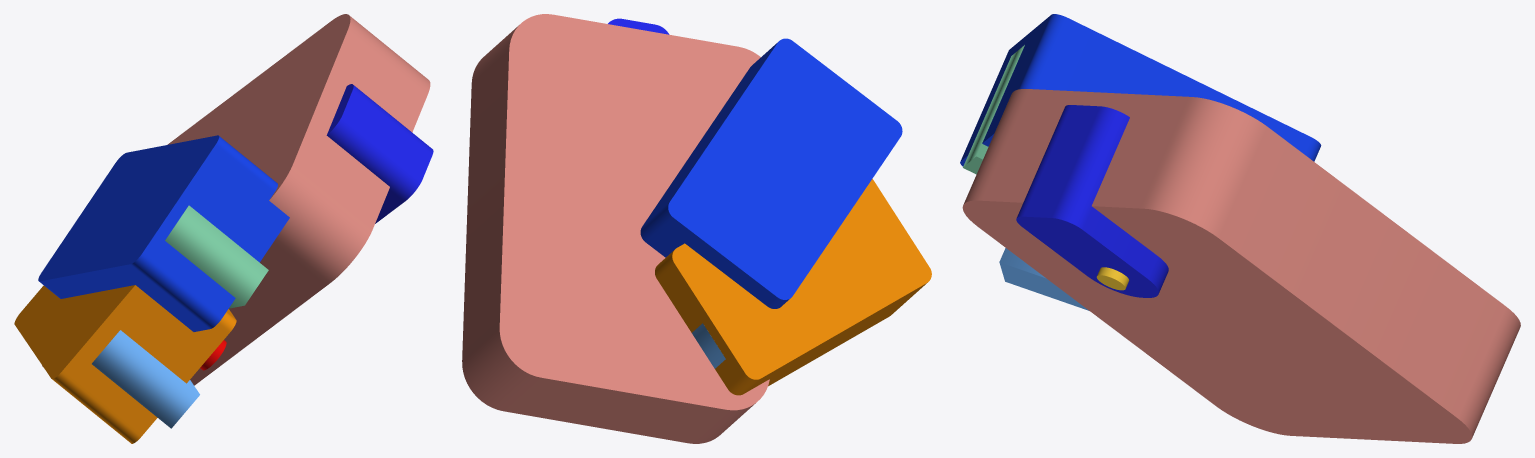
Rendered from wallet4.glb.
3 views of the same model, side by side, from view 1: azimuth 30°, elevation 25°; view 2: azimuth 150°, elevation 25°; view 3: azimuth 270°, elevation 25° (orthographic). The views are drawn at different scales.
Parts seen in each view (by area): view 1: Shape_93_, Shape_95_, Shape_94_, Shape_92_, Stripe_1_, Stripe_2_; view 2: Shape_93_, Shape_95_, Shape_94_, Stripe_1_, Shape_92_; view 3: Shape_93_, Shape_92_, Shape_95_, Stripe_1_, Stripe_2_.
Part boxes in pixels (x1,y1,x2,y2): Shape_93_: (42,14,430,385); Shape_95_: (38,135,289,331); Shape_94_: (14,285,236,443); Shape_92_: (326,84,433,223); Stripe_1_: (92,330,199,428); Stripe_2_: (165,205,268,308); Shape_93_: (462,14,769,443); Shape_95_: (640,38,902,308); Shape_94_: (655,179,931,395); Stripe_1_: (692,323,725,368); Shape_92_: (608,18,669,34); Shape_93_: (962,89,1520,443); Shape_92_: (1016,105,1168,297); Shape_95_: (960,14,1321,166); Stripe_1_: (999,248,1088,310); Stripe_2_: (963,45,1024,174).
Bounding box in the file's own units: 2.79 × 2.39 × 2.69.
